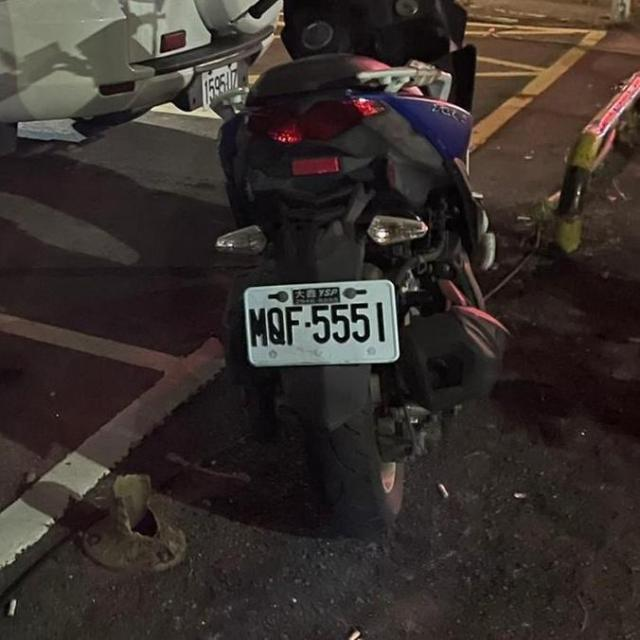W: (240, 273, 405, 371), (191, 57, 253, 109)
